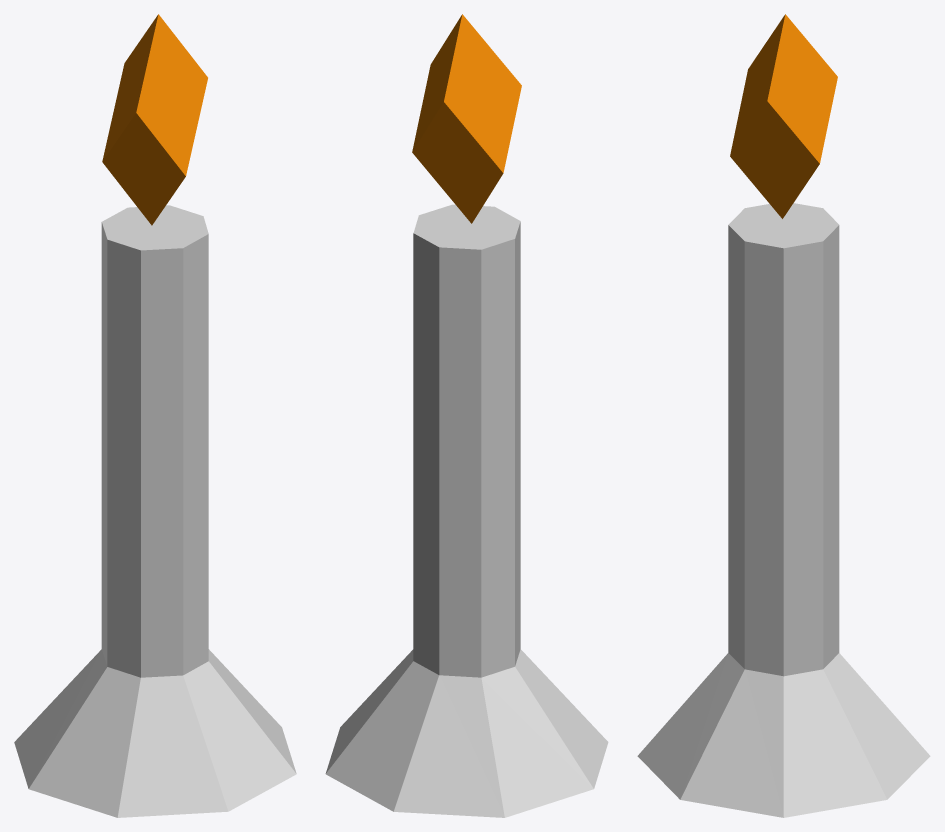
Rendered from candle1.obj.
The picture shows the model from 3 angles, left to right: view 1: azimuth 30°, elevation 25°; view 2: azimuth 150°, elevation 25°; view 3: azimuth 270°, elevation 25°; orthographic projection.
Parts seen in each view (by area): view 1: Object.1, Object.2; view 2: Object.1, Object.2; view 3: Object.1, Object.2.
Part boxes in pixels (bbox=[...]): Object.1: bbox=[14, 205, 296, 817]; Object.2: bbox=[102, 14, 207, 225]; Object.1: bbox=[325, 204, 608, 817]; Object.2: bbox=[412, 14, 521, 223]; Object.1: bbox=[637, 203, 930, 817]; Object.2: bbox=[730, 14, 837, 218].
Bounding box in the file's own units: 0.1 × 0.28 × 0.1.
